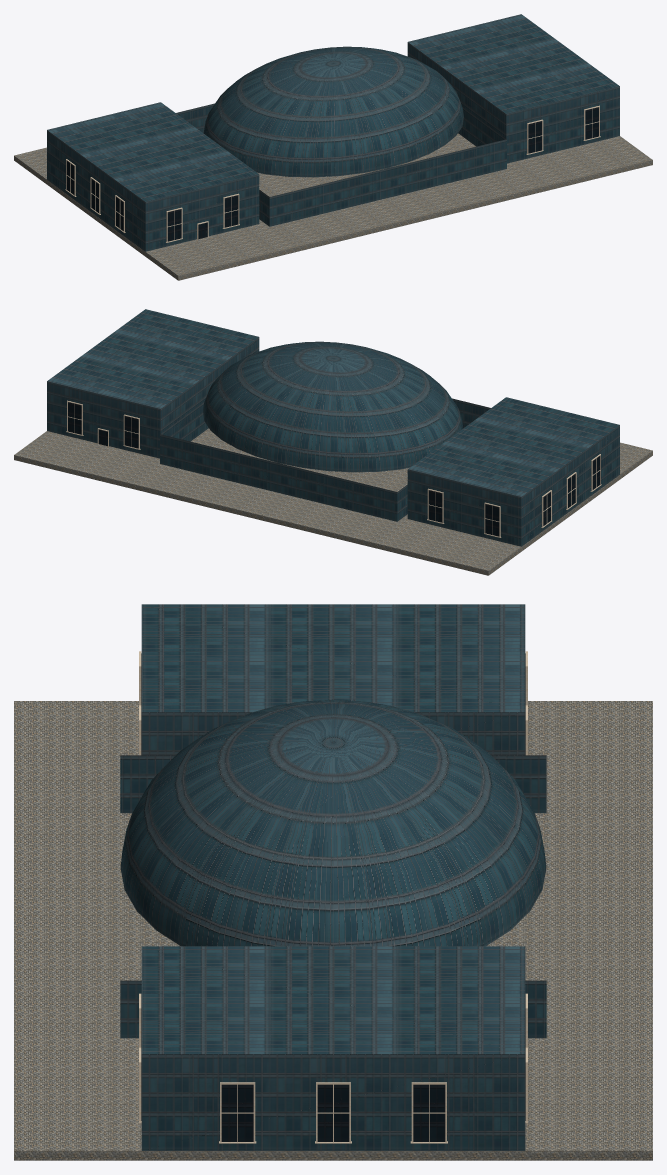
The model's file is conservatory_lod0.gltf.
3 views of the same model, one above another, from view 1: azimuth 30°, elevation 25°; view 2: azimuth 150°, elevation 25°; view 3: azimuth 270°, elevation 25° (orthographic). The views are drawn at different scales.
Parts seen in each view (by area): view 1: conservatory_dome, conservatory_base, conservatory_wing0, conservatory_wing1, conservatory_drum, conservatory_fen_07-glass-curtain-blue_1_t, conservatory_fen_04-limestone_0; view 2: conservatory_dome, conservatory_wing0, conservatory_base, conservatory_wing1, conservatory_drum, conservatory_fen_07-glass-curtain-blue_1_t, conservatory_fen_04-limestone_0; view 3: conservatory_base, conservatory_dome, conservatory_wing1, conservatory_wing0, conservatory_fen_07-glass-curtain-blue_1_t, conservatory_drum, conservatory_fen_04-limestone_0.
Boxes of the visible parts, bbox=[...] form: conservatory_dome: bbox=[203, 46, 463, 177]; conservatory_base: bbox=[14, 133, 652, 280]; conservatory_wing0: bbox=[47, 102, 259, 251]; conservatory_wing1: bbox=[407, 14, 619, 163]; conservatory_drum: bbox=[176, 103, 506, 226]; conservatory_fen_07-glass-curtain-blue_1_t: bbox=[66, 107, 598, 241]; conservatory_fen_04-limestone_0: bbox=[65, 105, 600, 242]; conservatory_dome: bbox=[203, 341, 463, 472]; conservatory_wing0: bbox=[407, 397, 619, 546]; conservatory_base: bbox=[14, 428, 652, 575]; conservatory_wing1: bbox=[47, 309, 259, 458]; conservatory_drum: bbox=[160, 398, 490, 521]; conservatory_fen_07-glass-curtain-blue_1_t: bbox=[68, 402, 600, 536]; conservatory_fen_04-limestone_0: bbox=[66, 400, 601, 537]; conservatory_base: bbox=[14, 701, 652, 1160]; conservatory_dome: bbox=[120, 699, 546, 946]; conservatory_wing1: bbox=[141, 946, 525, 1150]; conservatory_wing0: bbox=[141, 604, 525, 755]; conservatory_fen_07-glass-curtain-blue_1_t: bbox=[141, 653, 525, 1141]; conservatory_drum: bbox=[120, 755, 546, 1038]; conservatory_fen_04-limestone_0: bbox=[139, 651, 527, 1143].
Bounding box in the file's own units: 101 × 20 × 60.
